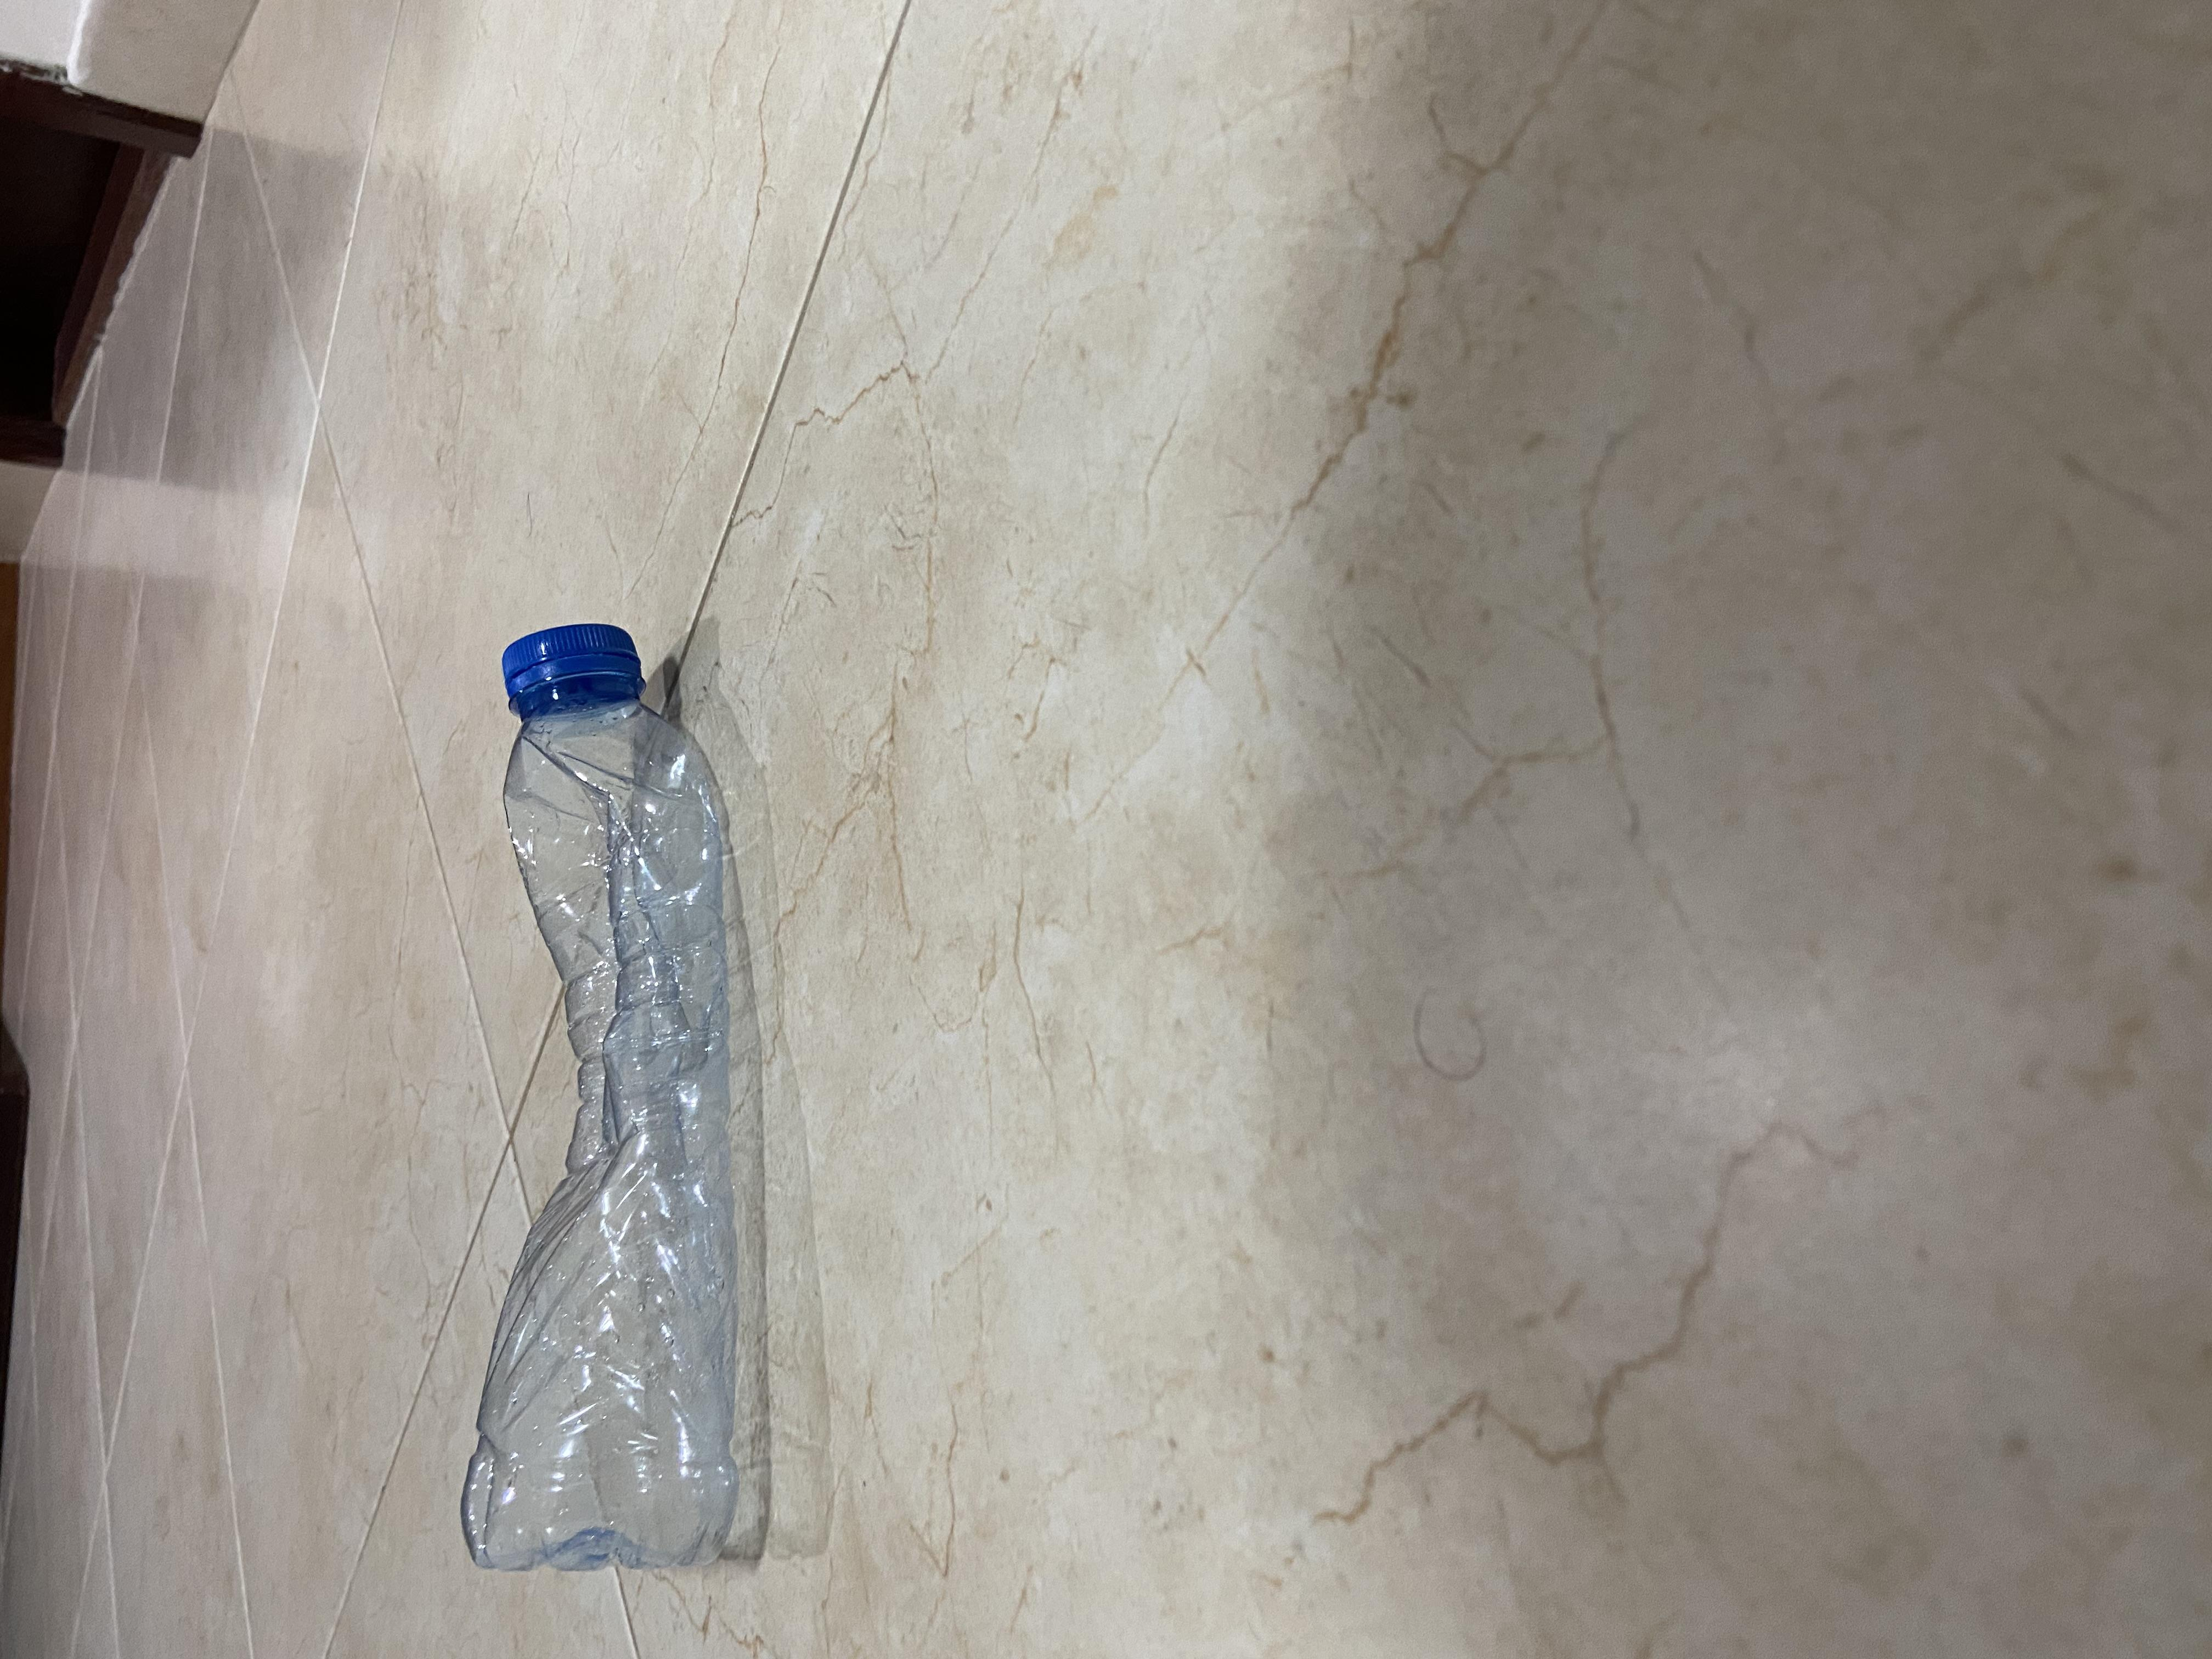bottle: (85, 326, 1430, 647)
